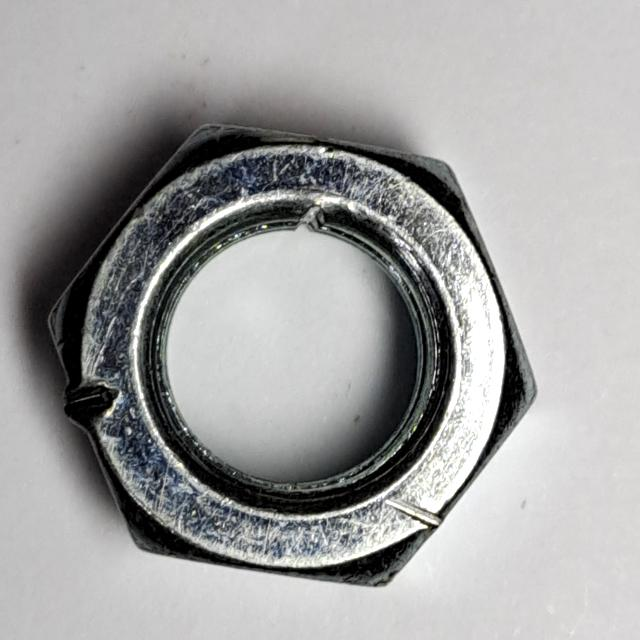Scratches: (30, 102, 549, 609)
